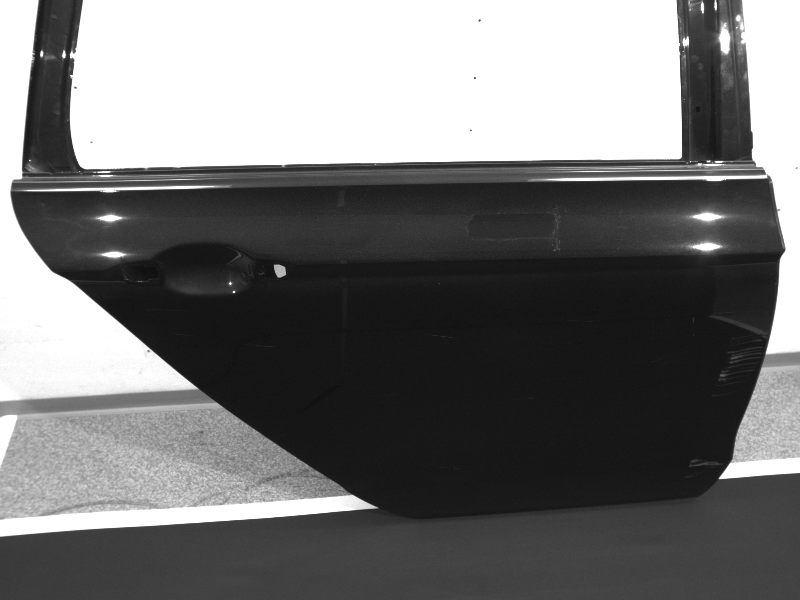scratch: (711, 331, 766, 398), (686, 456, 725, 478), (425, 333, 453, 340), (245, 342, 276, 348), (691, 317, 696, 337)
